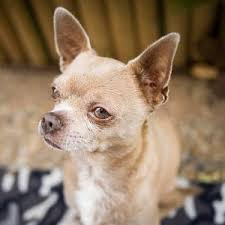chihuahua: (29, 1, 203, 223)
